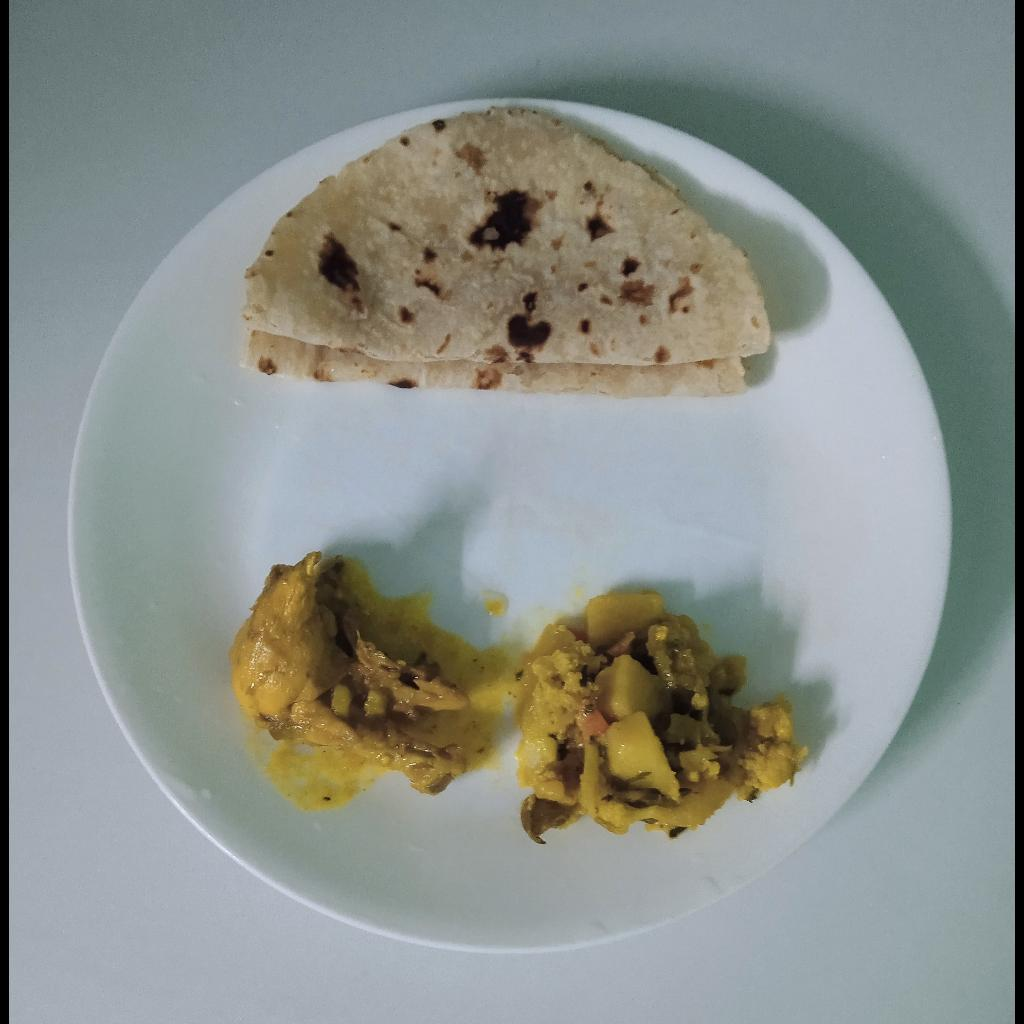chicken: (228, 553, 476, 796)
ruti: (237, 105, 775, 398)
vegetable: (517, 589, 807, 845)
